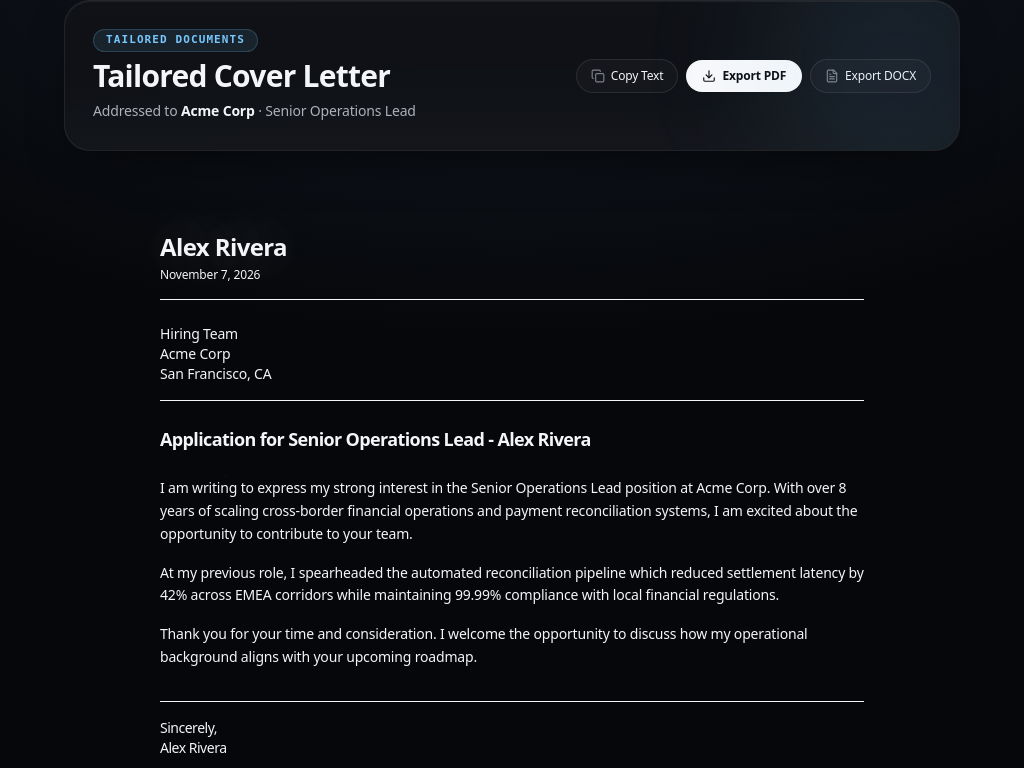
Test: Task 9: CoverLetterView PDF & DOCX Exports › copies plain text to clipboard when Copy Text is clicked
Click the button "Copy Text".
click(627, 76)  # box top-left (576, 59), bottom-right (678, 93)
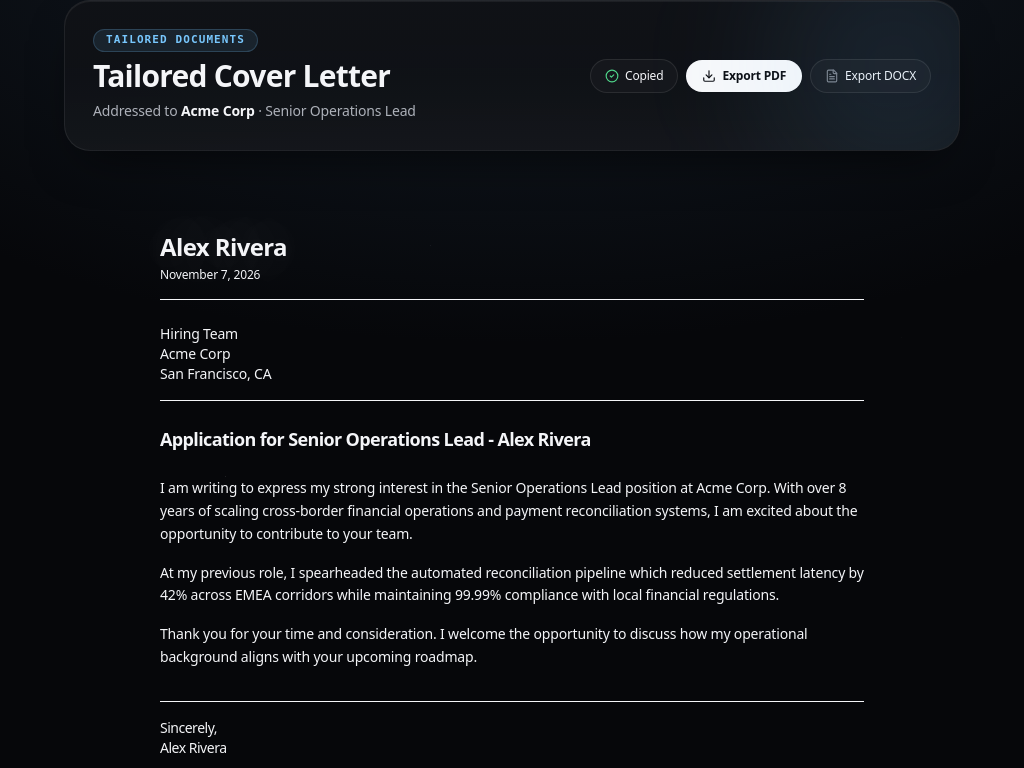
expect the text "Copied" is shown: met, box top-left (625, 68), bottom-right (663, 84)
